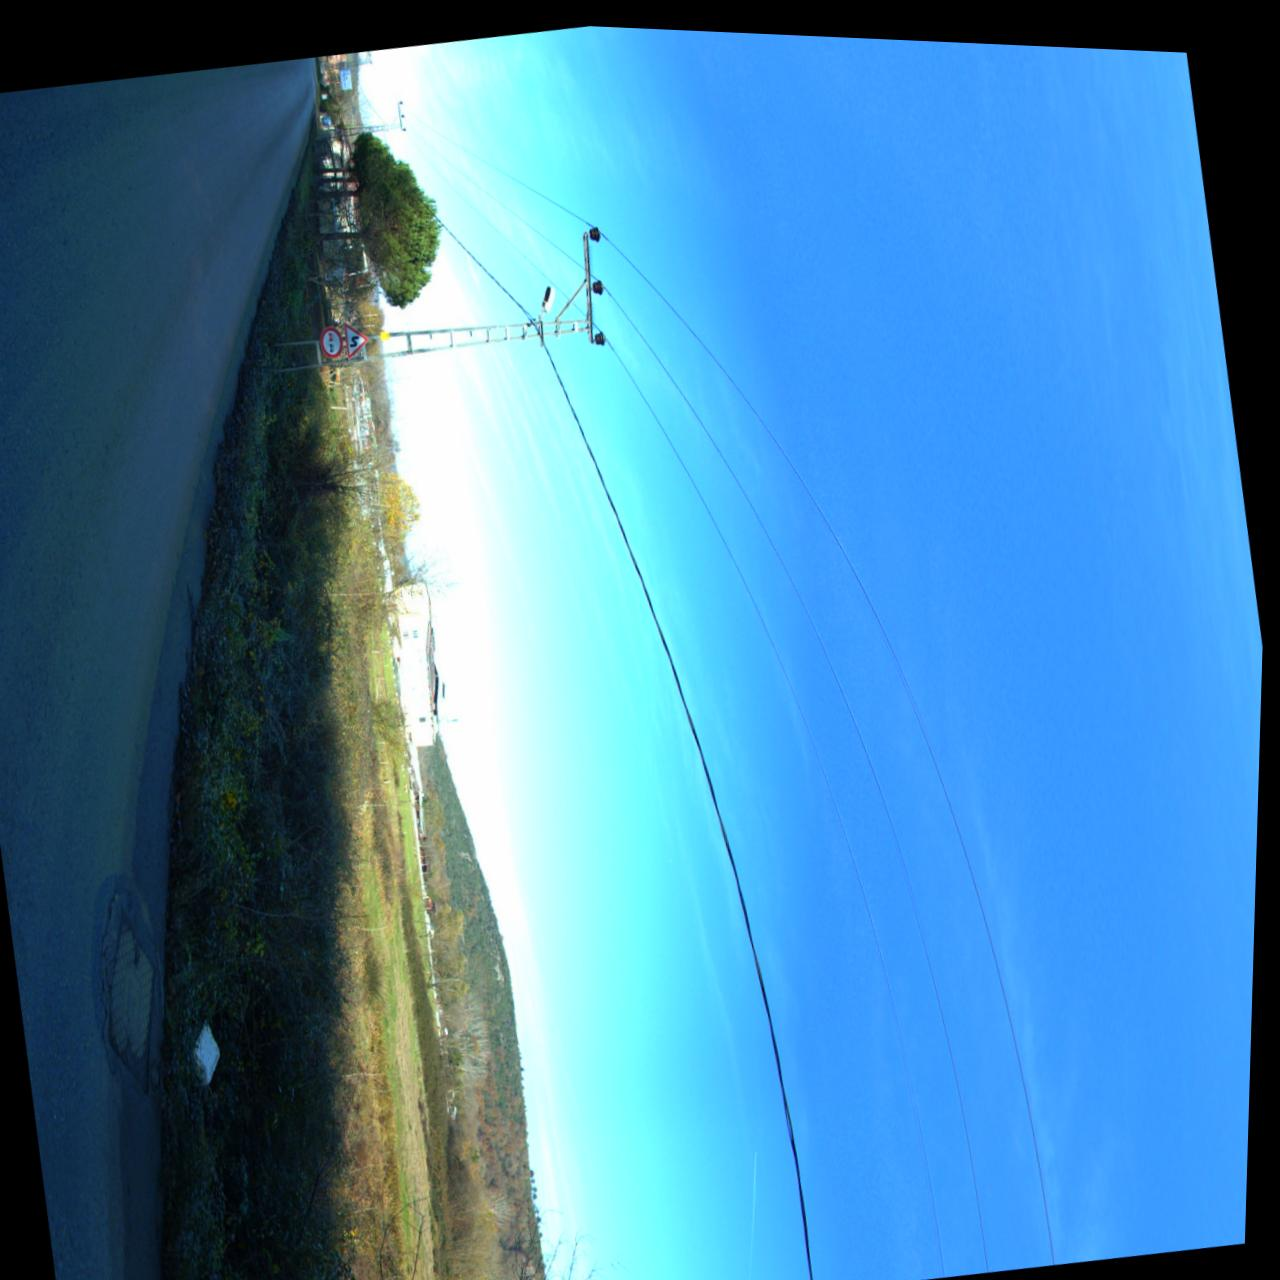Utility Pole Information Plate: (381, 328, 392, 336)
